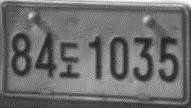0: (108, 35, 129, 81)
1: (86, 34, 102, 80)
3: (130, 36, 154, 82)
4: (34, 33, 57, 79)
5: (157, 36, 179, 83)
8: (11, 32, 32, 77)
도: (58, 41, 79, 78)
